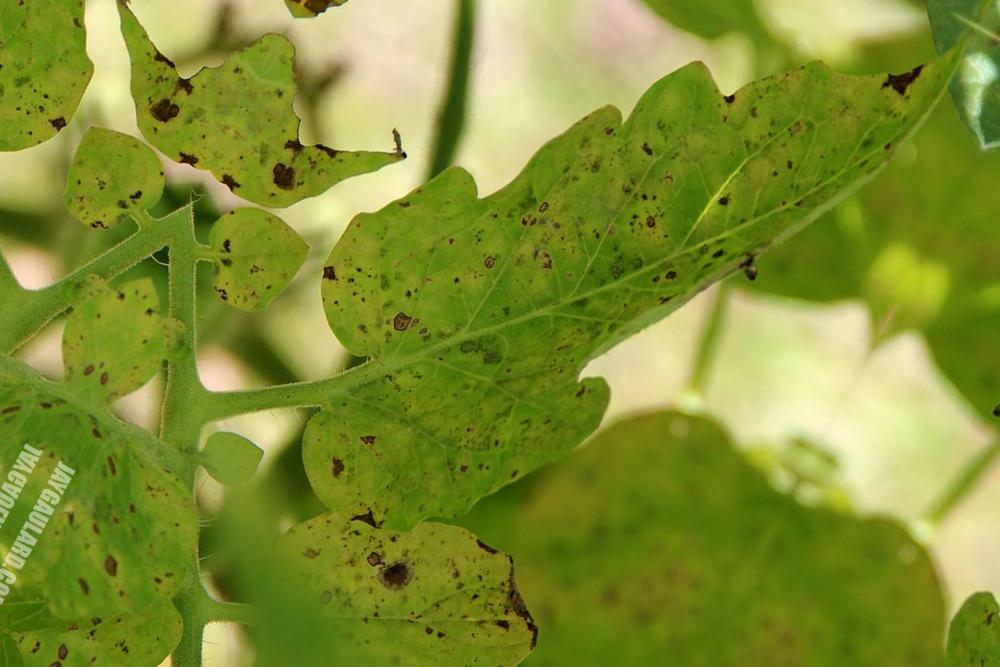Tomato Septoria leaf spot: (233, 0, 970, 667), (159, 390, 629, 667)
